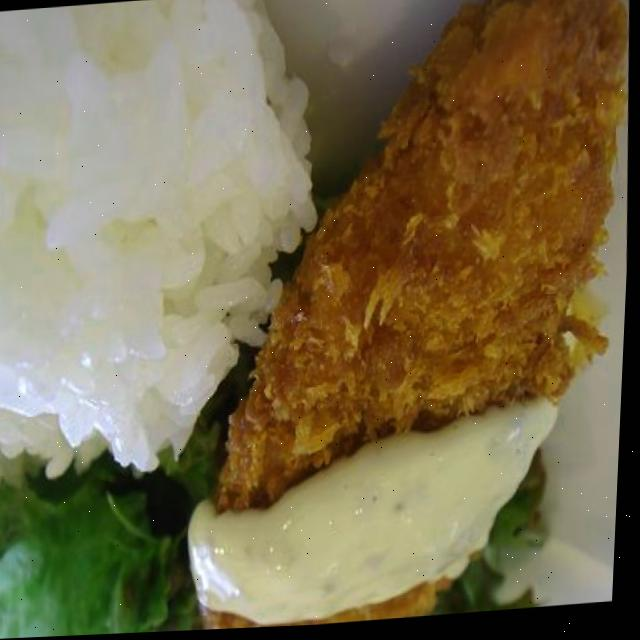炸货点心: (174, 0, 640, 633)
熟制海鲜: (174, 0, 640, 633)
